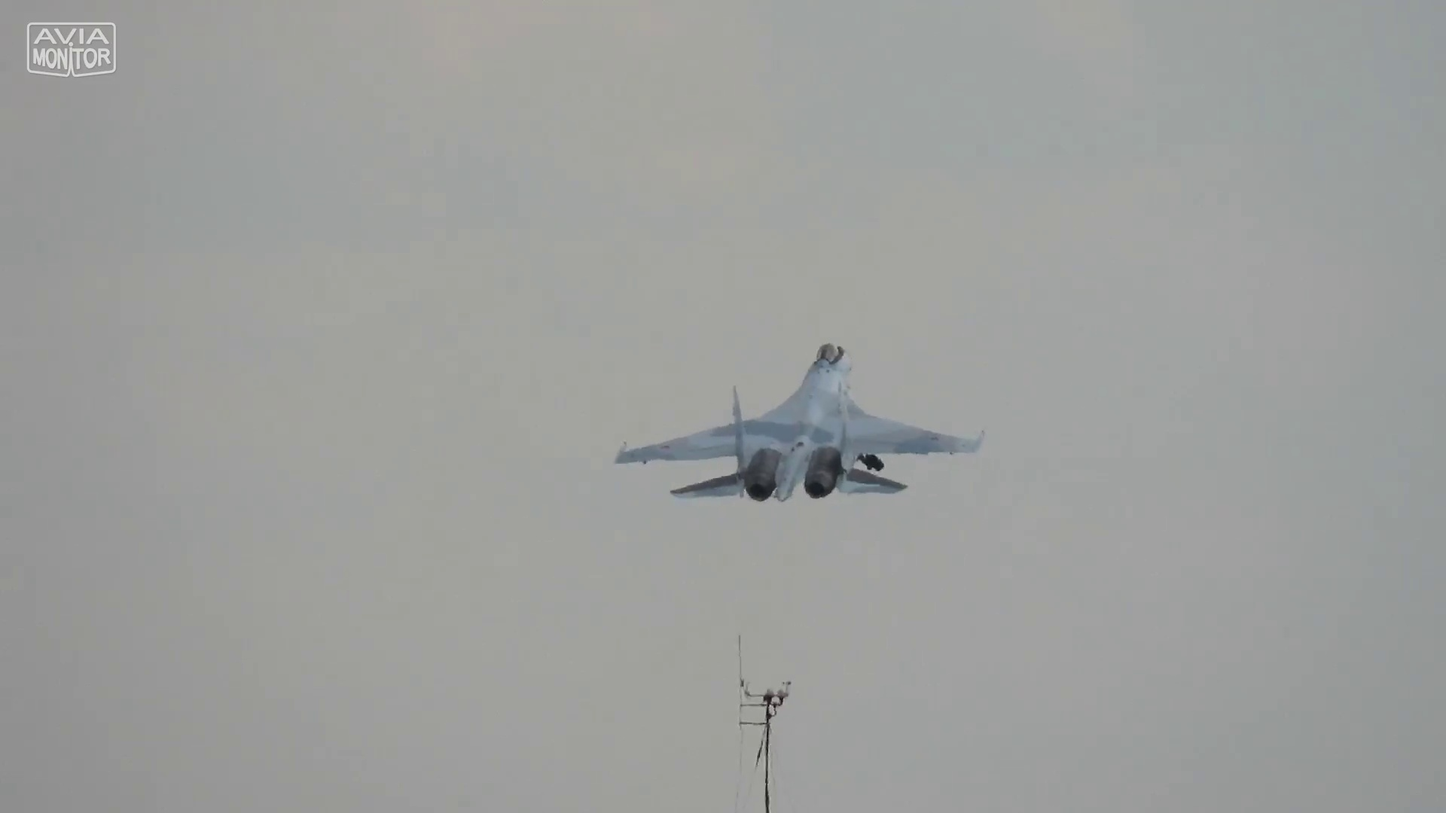Su35: (607, 332, 1003, 515)
